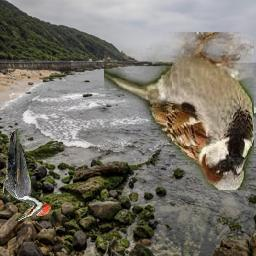Sparrow: (104, 32, 254, 190)
Woodpecker: (3, 131, 51, 221)
